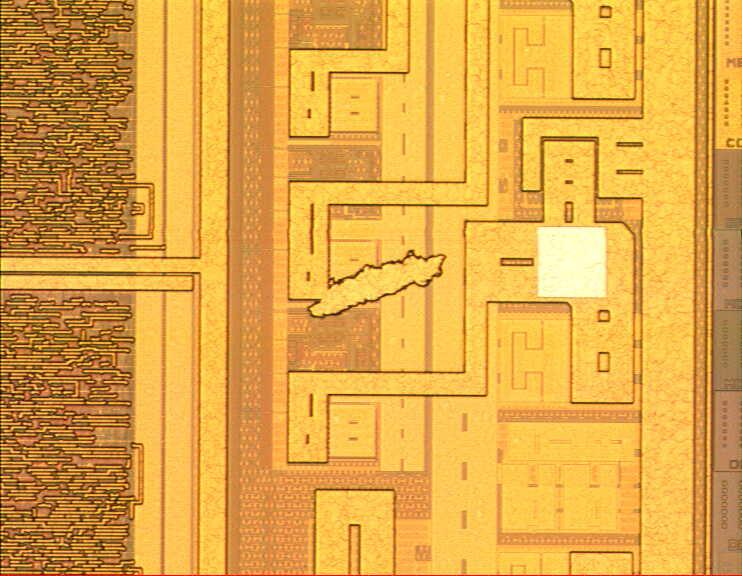BLOCK ETCH: (293, 249, 454, 324)
